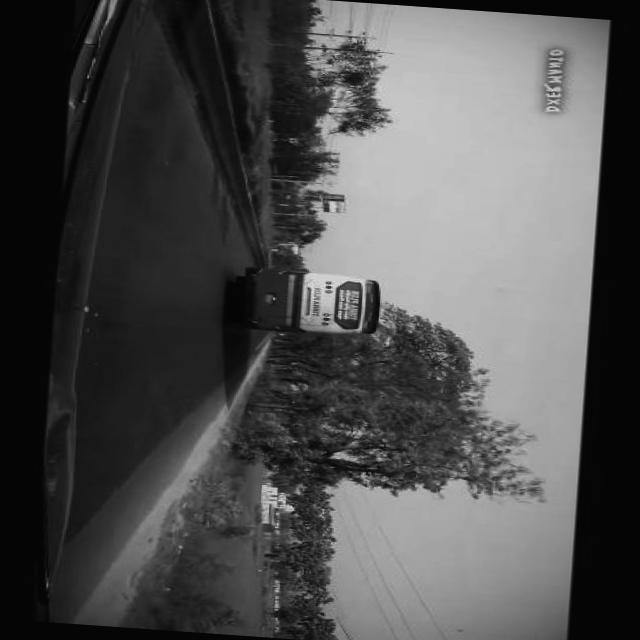bus: (239, 268, 383, 340)
